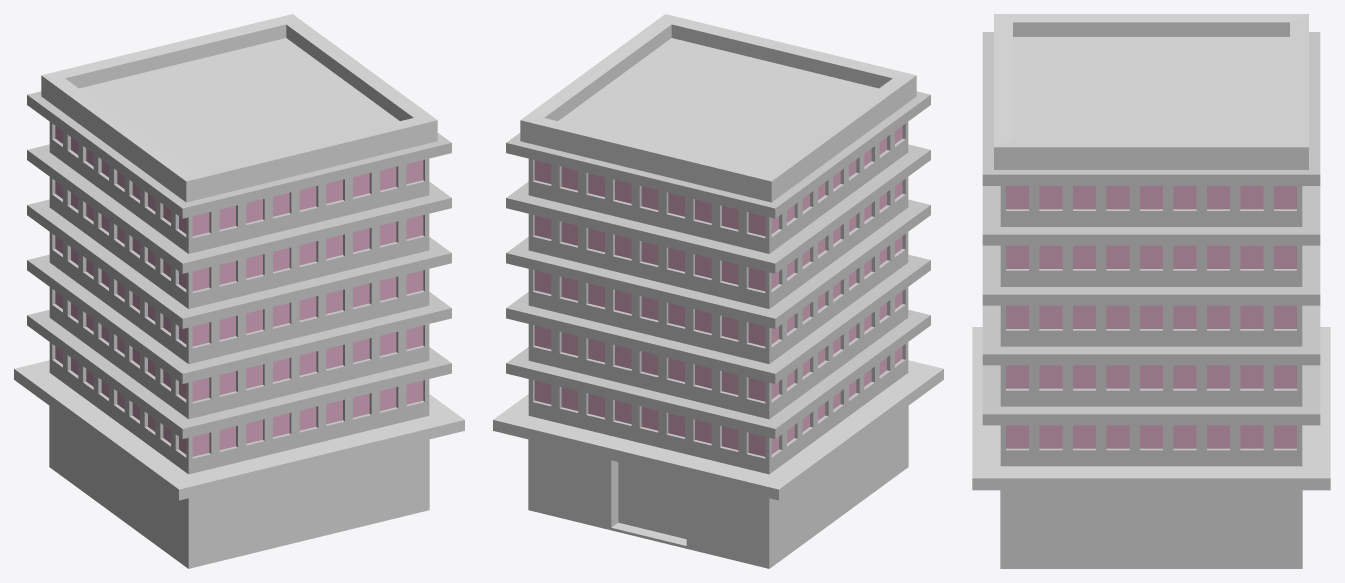
The model's file is building01_short.fbx.
3 views of the same model, side by side, from view 1: azimuth 30°, elevation 25°; view 2: azimuth 150°, elevation 25°; view 3: azimuth 270°, elevation 25° (orthographic). The views are drawn at different scales.
Parts seen in each view (by area): view 1: Plane.004, Plane.005, Plane.003; view 2: Plane.004, Plane.005, Plane.003; view 3: Plane.004, Plane.005, Plane.003.
Boxes of the visible parts, <box> form: Plane.004: <box>27,91,451,474</box>; Plane.005: <box>41,14,437,202</box>; Plane.003: <box>14,360,464,568</box>; Plane.004: <box>506,91,930,474</box>; Plane.005: <box>520,14,916,202</box>; Plane.003: <box>493,360,943,568</box>; Plane.004: <box>982,32,1320,466</box>; Plane.005: <box>994,14,1308,169</box>; Plane.003: <box>972,327,1330,568</box>.
Size of the model in its own units: 1074 by 1404 by 1074.
